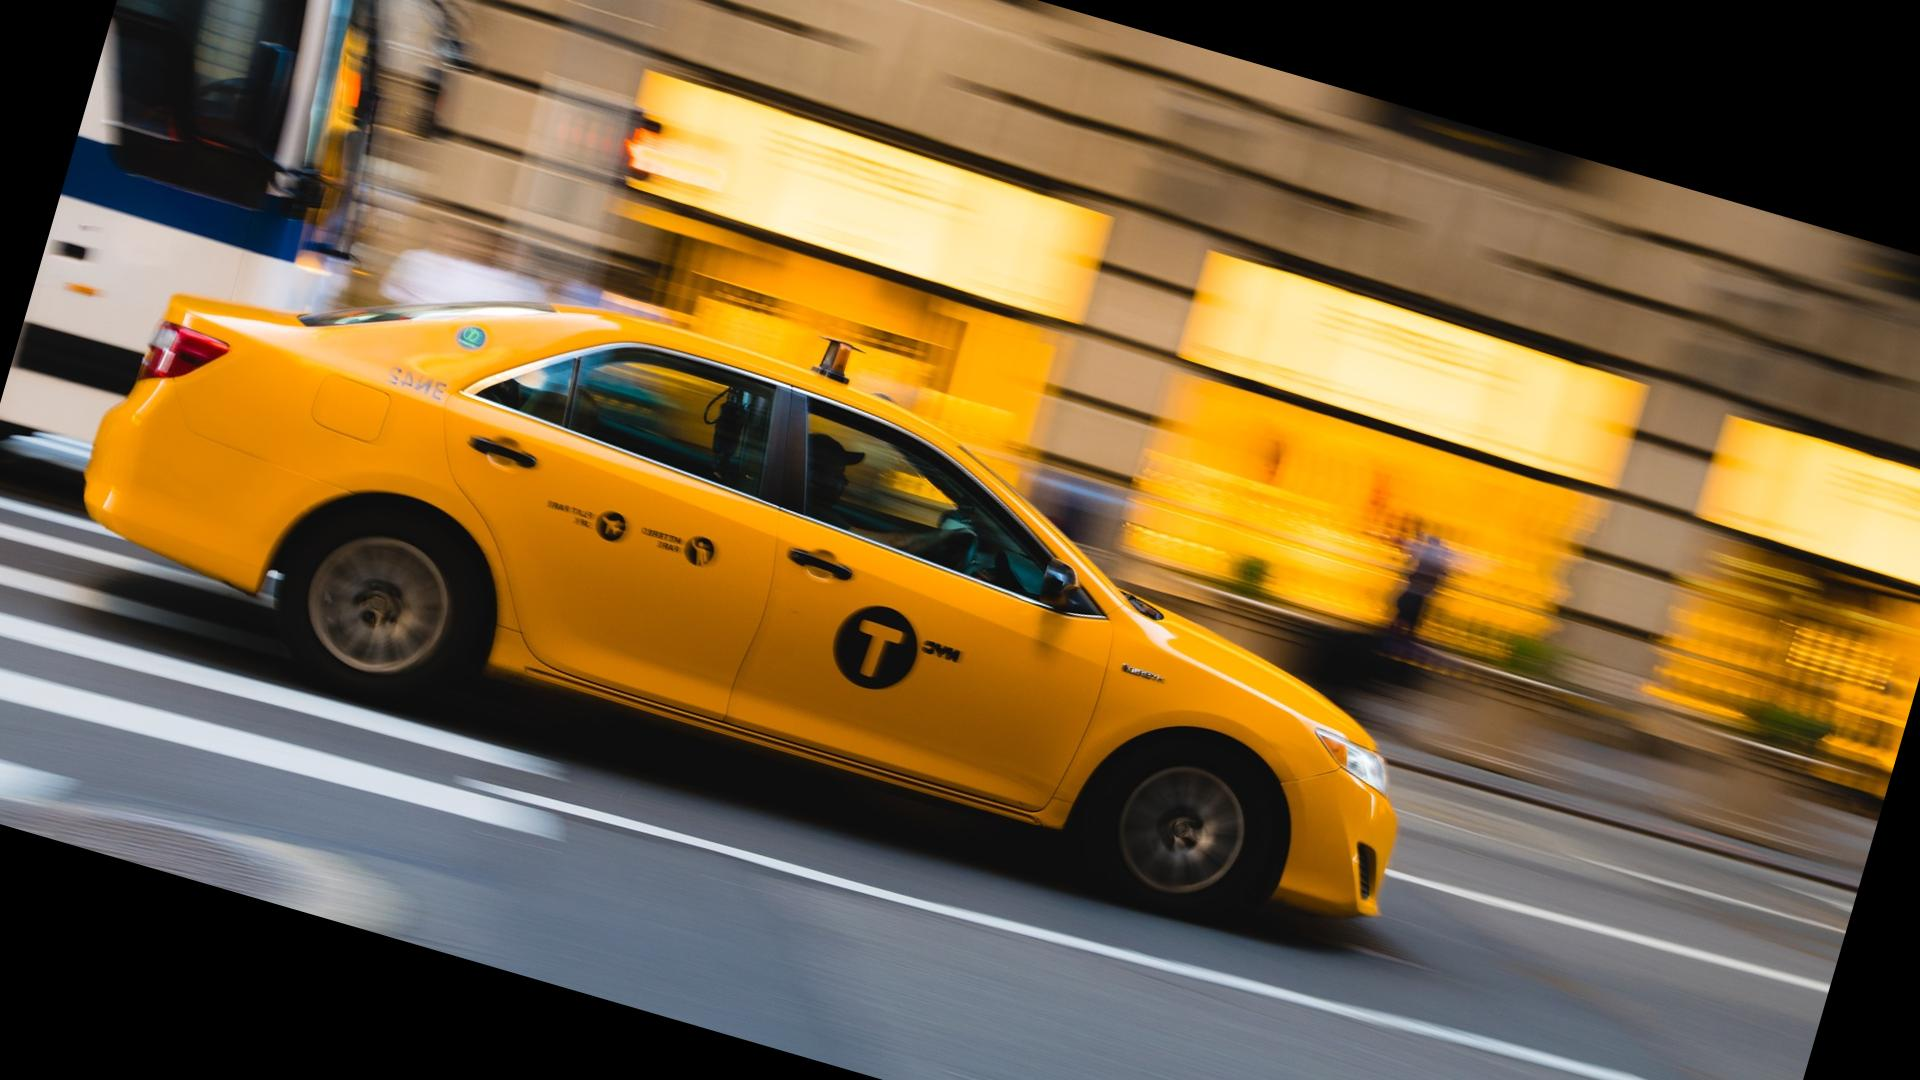taxi: (94, 235, 1403, 949)
